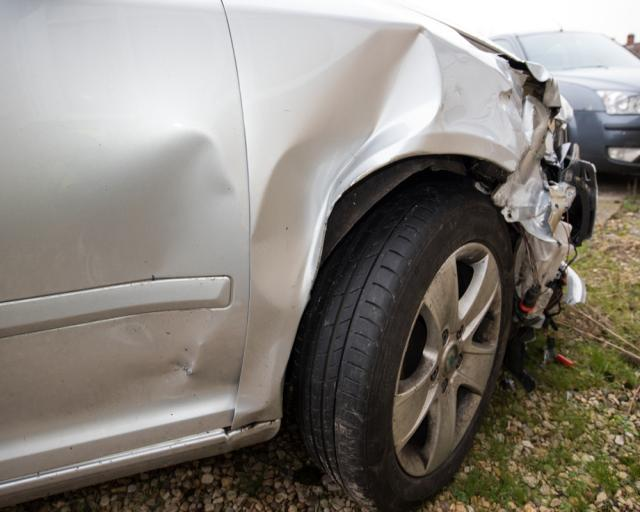dent: (240, 27, 444, 391), (85, 131, 251, 405), (493, 58, 549, 172)
